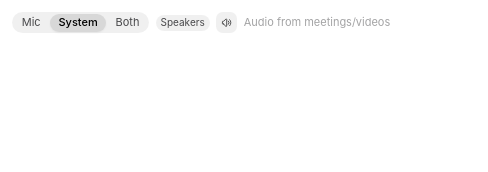
Test case: AudioCapture › microphone permission › should show a permission error instead of capturing when mic access is denied
Click the button "Mic": click(31, 23) [14, 14, 49, 32]
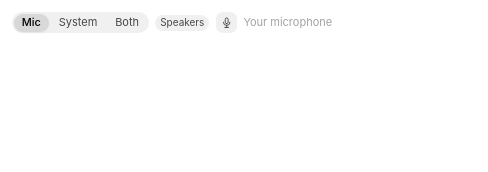
Click the button titled "Transcribe": click(226, 23) [216, 12, 237, 33]
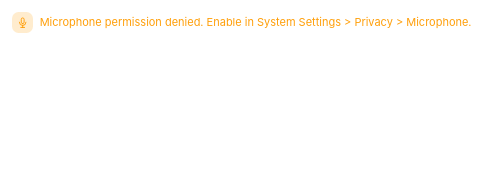
Check: the text "Microphone permission denied" is shown, box [40, 15, 472, 29]
